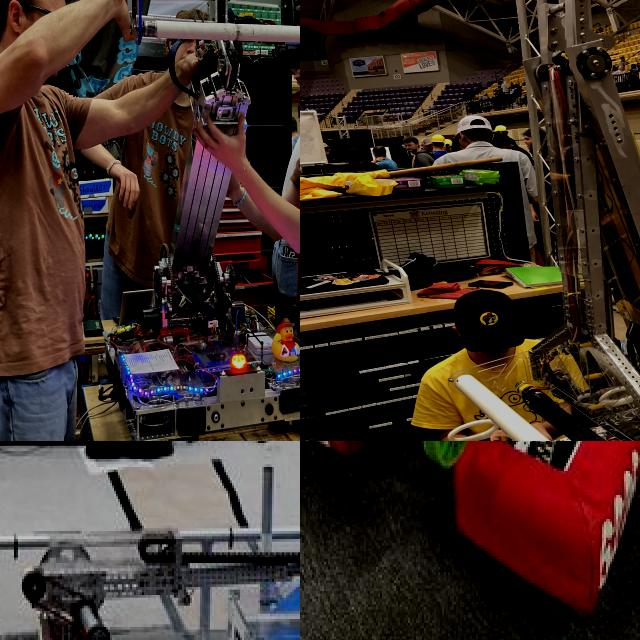FRC-Robots: (360, 0, 640, 441), (82, 0, 300, 441), (300, 441, 640, 613), (0, 455, 300, 640)
